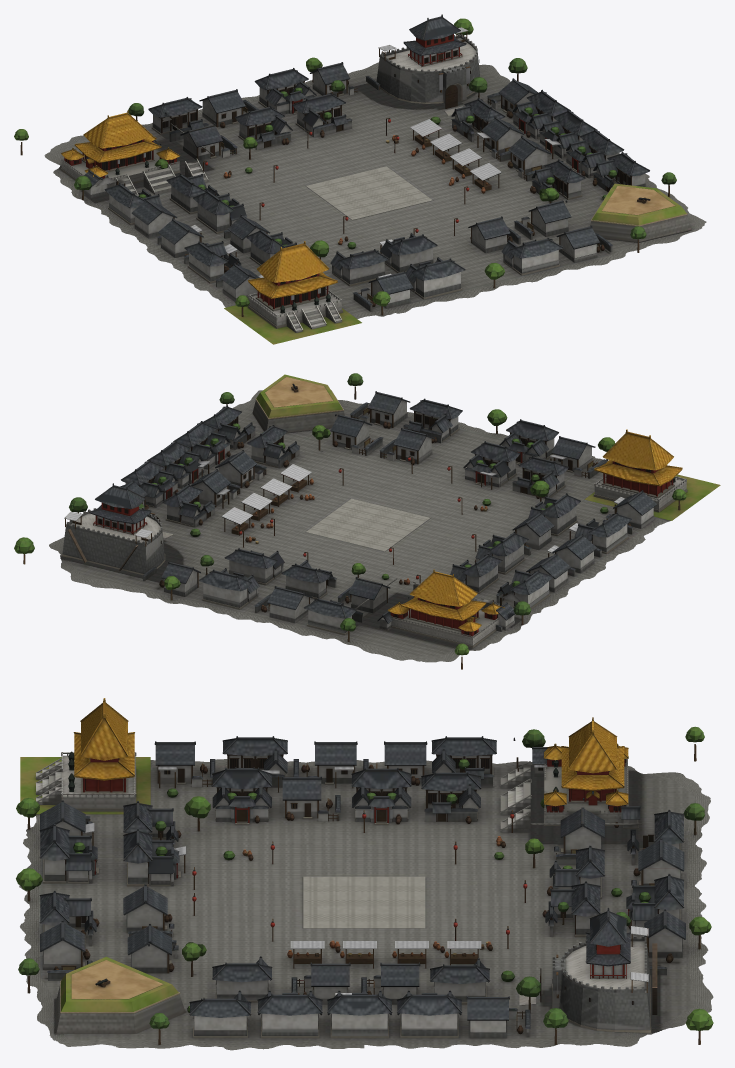
The model's file is gunpowder-town-big-a-sinic-17428572.glb.
3 renders of one model, top to bottom at view 1: azimuth 30°, elevation 25°; view 2: azimuth 150°, elevation 25°; view 3: azimuth 270°, elevation 25°, orthographic. The views are drawn at different scales.
Parts seen in each view (by area): view 1: LOD0; view 2: LOD0; view 3: LOD0.
Boxes of the visible parts, bbox=[...] form: LOD0: bbox=[14, 14, 706, 344]; LOD0: bbox=[14, 373, 720, 669]; LOD0: bbox=[16, 698, 713, 1050].
Size of what is drawn, in the model's own units: 8.05 by 1.2 by 8.12.
Materials: 3 (3 with a texture image).
